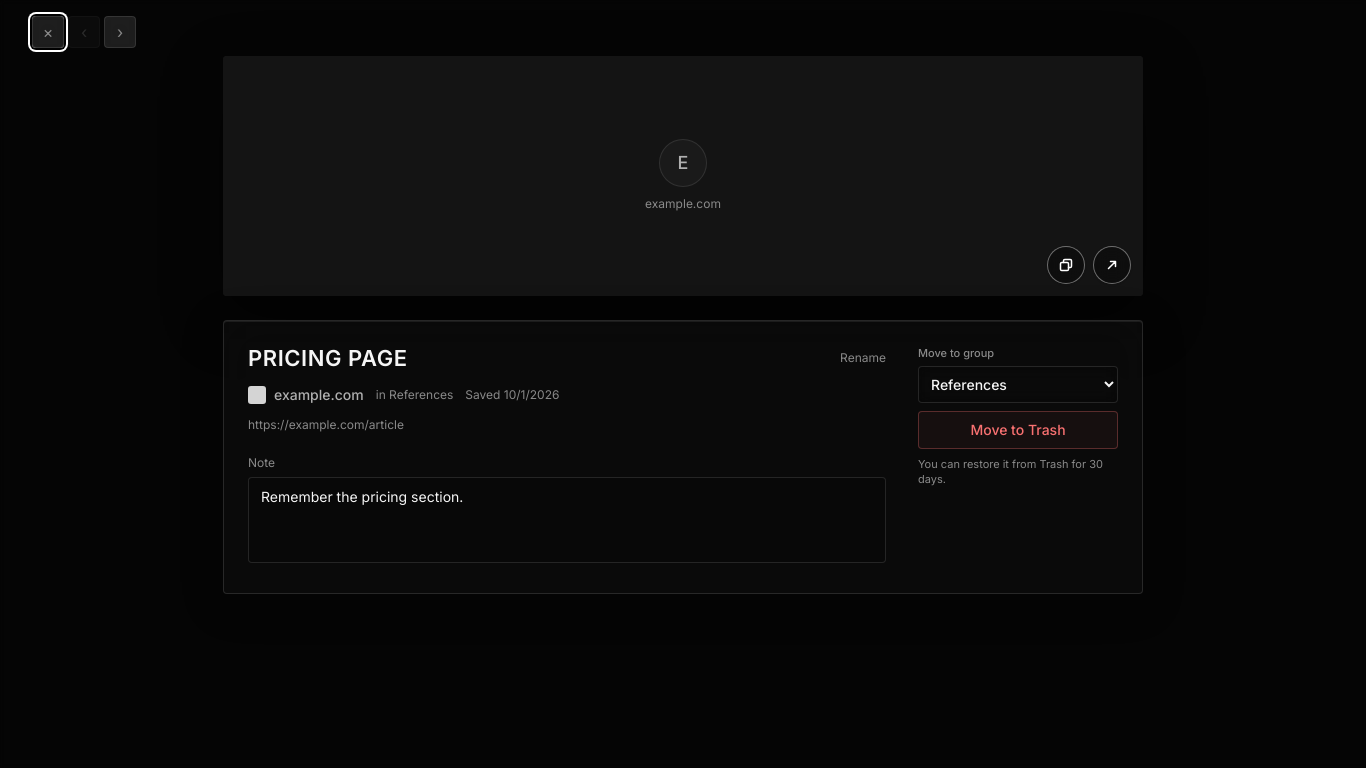
Scenario: leaving a link keeps the note › explains a dropped connection and keeps the note
Replace the text in the text box labelled "Note" with "Do not lose this" at (567, 520), box [248,477,886,563]
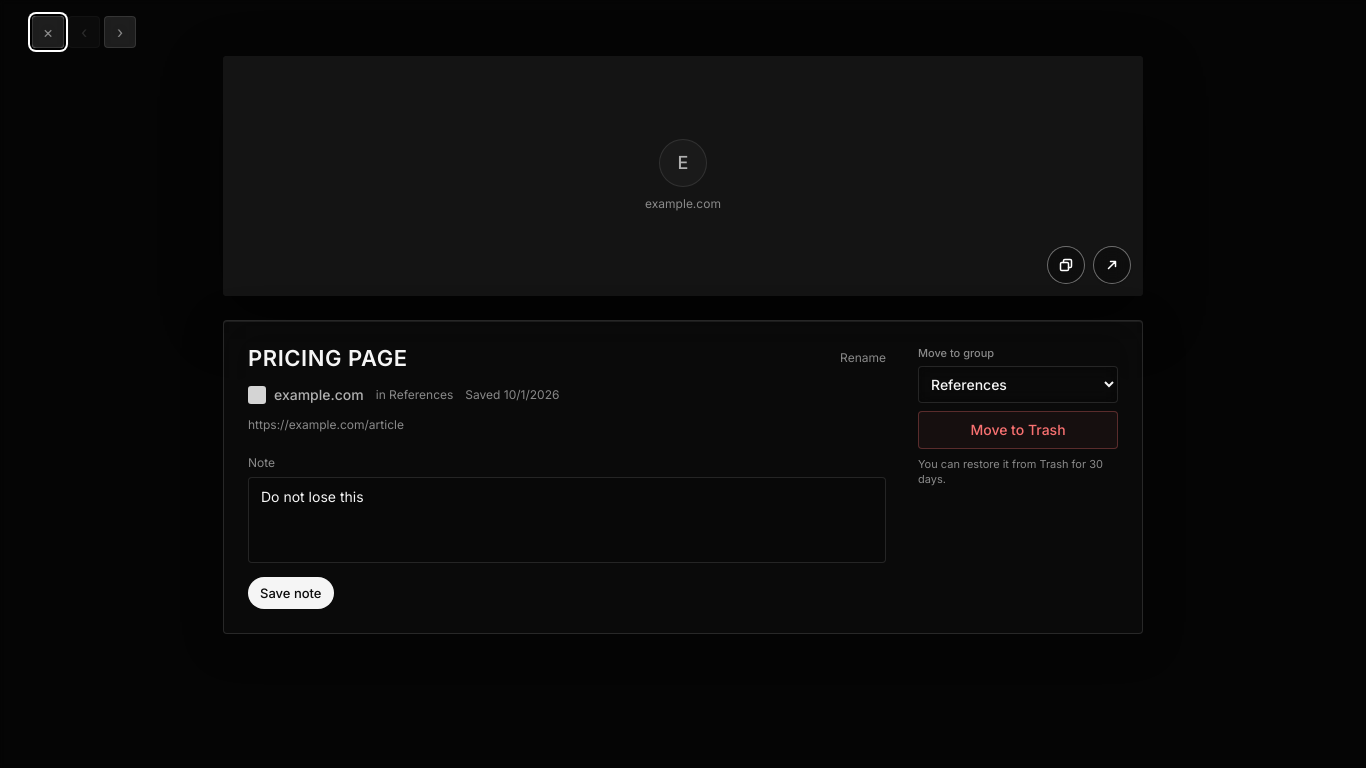
Click the button "Save note" at (291, 593), box [248,577,334,609]
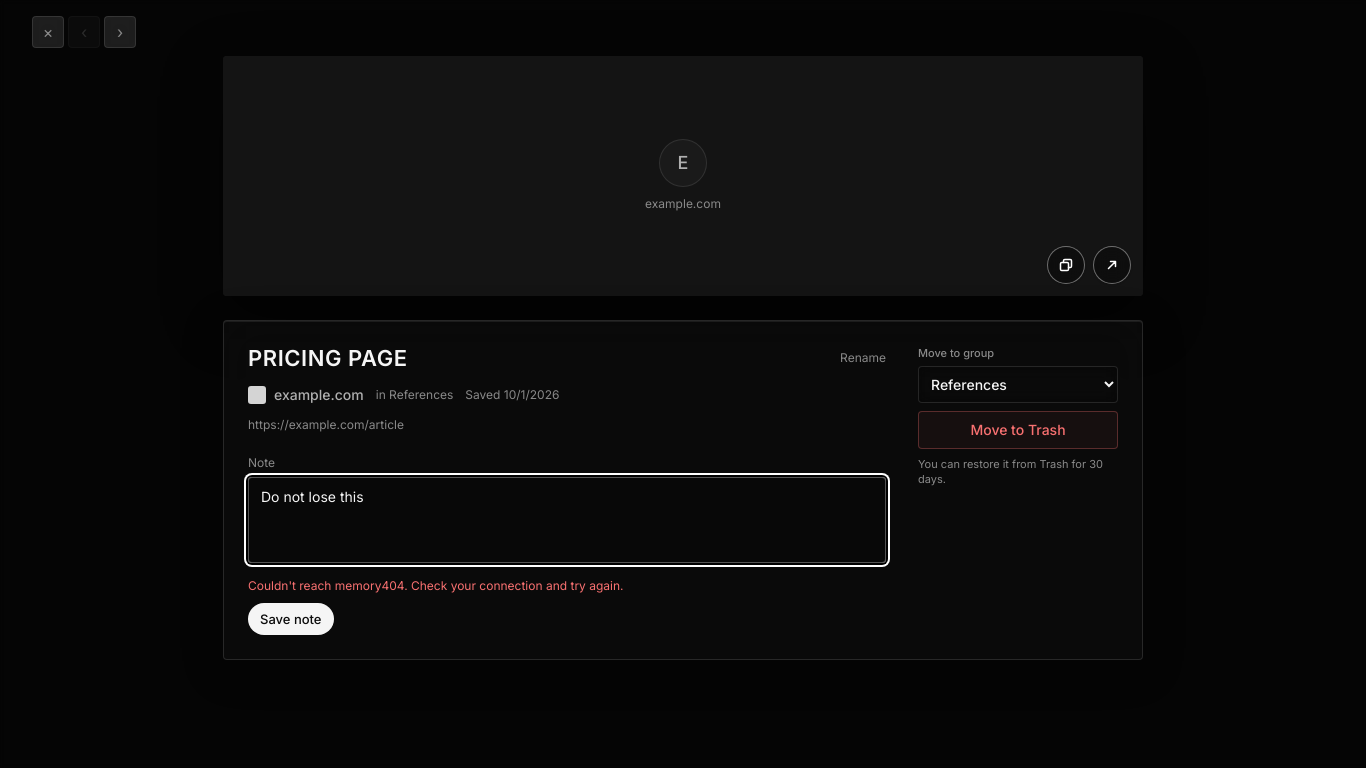
Expected: the message shows "Couldn't reach memory404", [248,578,624,593]
